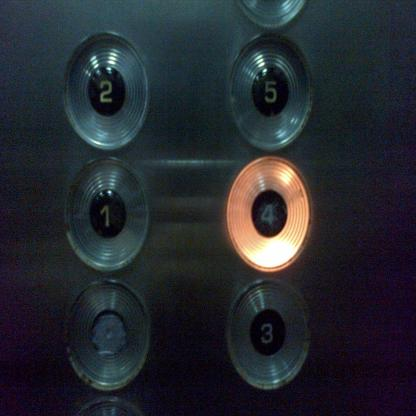1: (61, 154, 152, 277)
2: (60, 27, 151, 153)
3: (221, 272, 313, 396)
4: (224, 151, 313, 274)
5: (226, 29, 316, 154)
empty: (62, 275, 155, 397)
